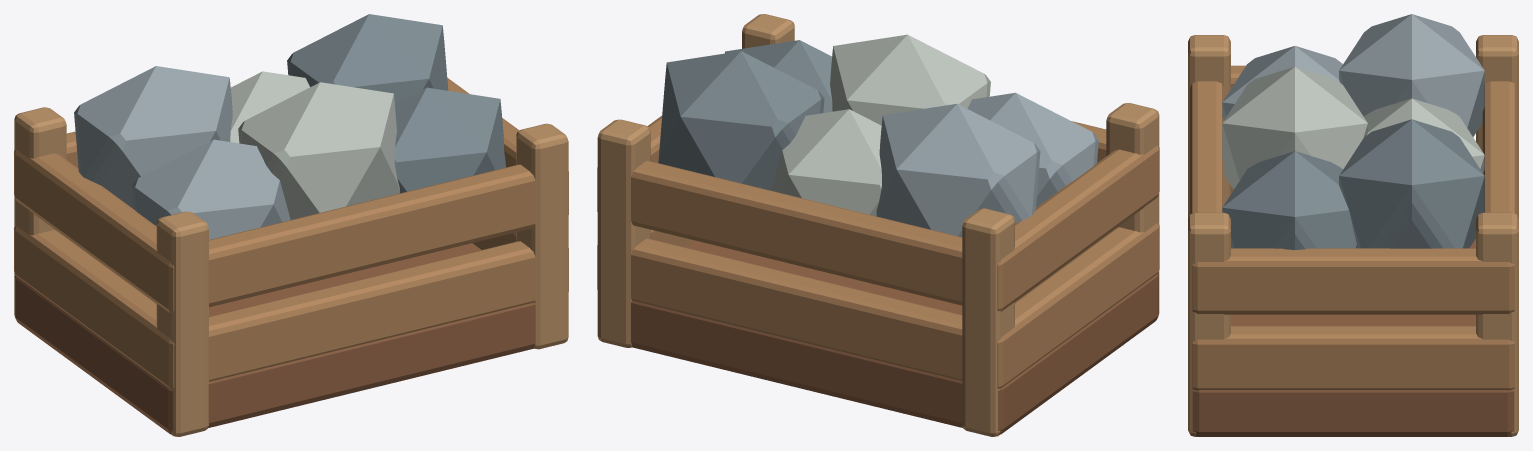
Rendered from carry_stones.glb.
The picture shows the model from 3 angles, left to right: view 1: azimuth 30°, elevation 25°; view 2: azimuth 150°, elevation 25°; view 3: azimuth 270°, elevation 25°; orthographic projection.
Parts seen in each view (by area): view 1: carry_stones; view 2: carry_stones; view 3: carry_stones.
Boxes of the visible parts, x1,y1,x2,y2 form: carry_stones: (14, 14, 568, 436); carry_stones: (597, 14, 1159, 436); carry_stones: (1188, 14, 1518, 436).
Size of the model in its own units: 0.6 by 0.39 by 0.425.
